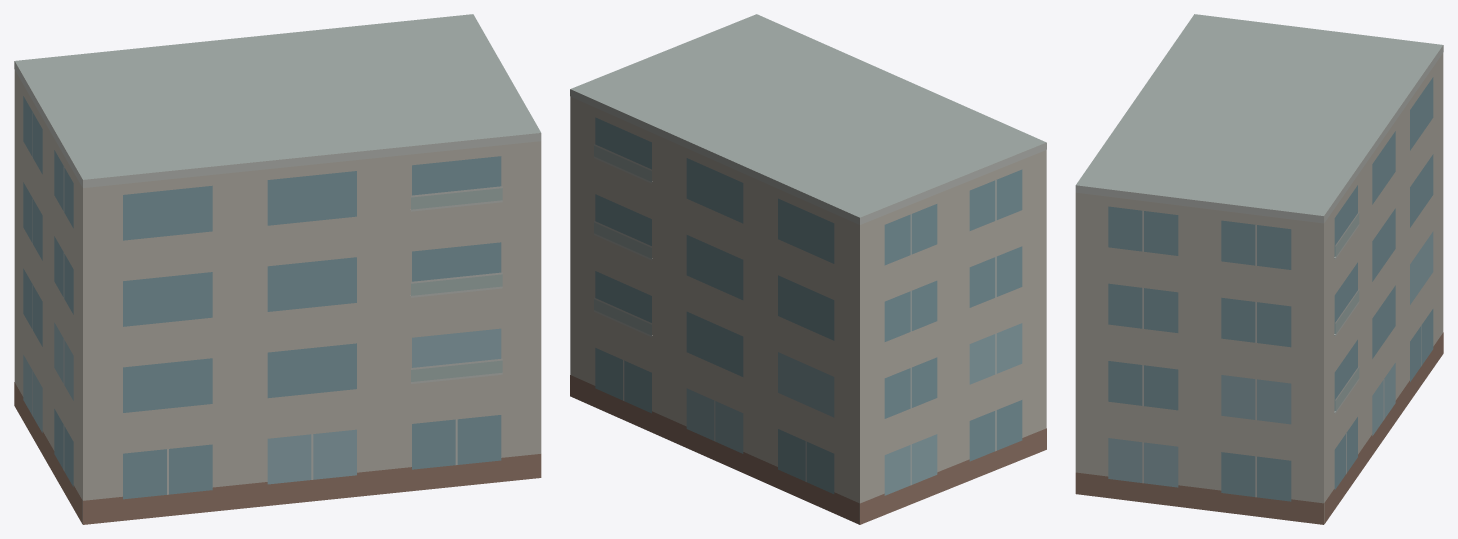
Rendered from survey-upis-33020437.glb.
The picture shows the model from 3 angles, left to right: view 1: azimuth 30°, elevation 25°; view 2: azimuth 150°, elevation 25°; view 3: azimuth 270°, elevation 25°; orthographic projection. The views are drawn at different scales.
Parts seen in each view (by area): view 1: survey-upis-33020437.tmp; view 2: survey-upis-33020437.tmp; view 3: survey-upis-33020437.tmp.
Part boxes in pixels (x1=…): survey-upis-33020437.tmp: x1=14, y1=14, x2=541, y2=524; survey-upis-33020437.tmp: x1=570, y1=14, x2=1046, y2=524; survey-upis-33020437.tmp: x1=1075, y1=14, x2=1443, y2=524.
Bounding box in the file's own units: 14.33 × 10.2 × 11.02.
